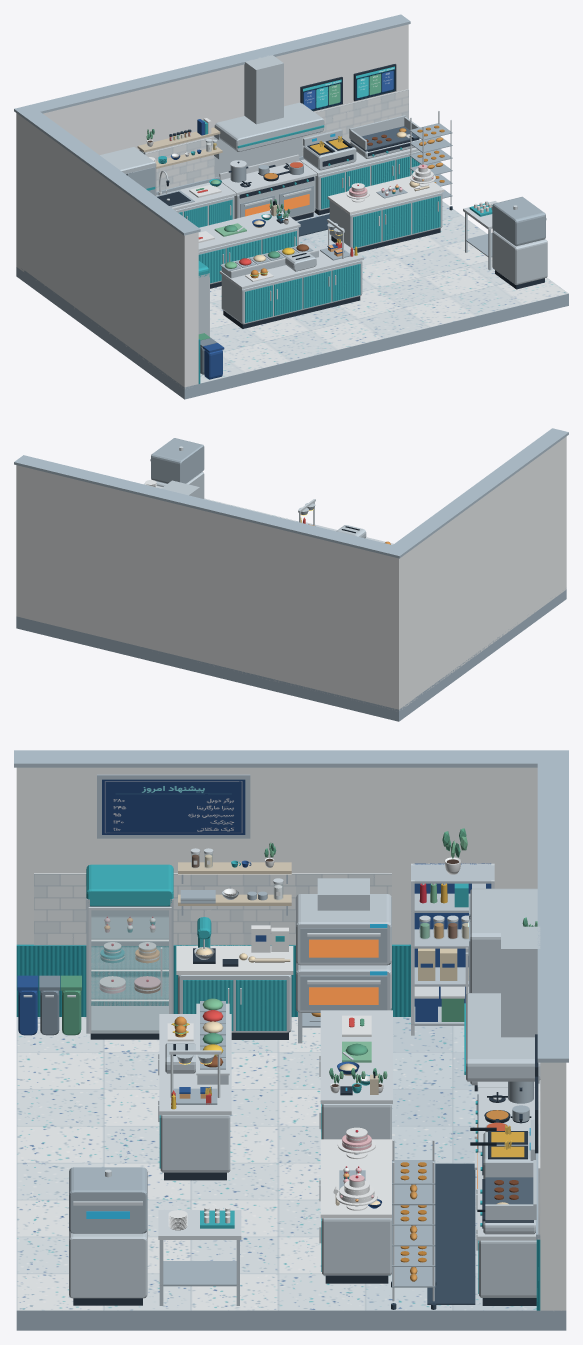
The model's file is cafe_kitchen_final (4).glb.
3 renders of one model, top to bottom at view 1: azimuth 30°, elevation 25°; view 2: azimuth 150°, elevation 25°; view 3: azimuth 270°, elevation 25°, orthographic. The views are drawn at different scales.
Parts seen in each view (by area): view 1: kitchen_shell_L1, kitchen_burgerStation_L4, kitchen_bakeryIsland_L3, kitchen_dishStation_L4, kitchen_hood_L2, kitchen_range_L1, kitchen_prepIsland_L1, kitchen_eastCounter_L1, kitchen_prepSink_L1, kitchen_kdsScreens_L4, kitchen_griddle_L2, kitchen_bakeRack_L3 (+5 smaller); view 2: kitchen_shell_L1, kitchen_dishStation_L4, kitchen_burgerStation_L4, kitchen_hood_L2; view 3: kitchen_shell_L1, kitchen_dishStation_L4, kitchen_cakeChiller_L4, kitchen_burgerStation_L4, kitchen_ovenStack_L3, kitchen_pantryShelf_L1, kitchen_mixerBench_L3, kitchen_specialsBoard_L5, kitchen_bakeryIsland_L3, kitchen_hood_L2, kitchen_prepIsland_L1, kitchen_floorMats_L1 (+9 smaller).
Boxes of the visible parts, bbox=[...] form: kitchen_shell_L1: bbox=[14, 14, 568, 399]; kitchen_burgerStation_L4: bbox=[219, 219, 363, 328]; kitchen_bakeryIsland_L3: bbox=[327, 176, 444, 252]; kitchen_dishStation_L4: bbox=[463, 196, 547, 289]; kitchen_hood_L2: bbox=[214, 55, 324, 151]; kitchen_range_L1: bbox=[219, 154, 317, 220]; kitchen_prepIsland_L1: bbox=[198, 201, 300, 288]; kitchen_eastCounter_L1: bbox=[300, 147, 421, 215]; kitchen_prepSink_L1: bbox=[156, 170, 236, 227]; kitchen_kdsScreens_L4: bbox=[300, 64, 396, 111]; kitchen_griddle_L2: bbox=[349, 115, 420, 158]; kitchen_bakeRack_L3: bbox=[409, 111, 452, 210]; kitchen_shell_L1: bbox=[14, 428, 568, 721]; kitchen_dishStation_L4: bbox=[144, 438, 204, 498]; kitchen_burgerStation_L4: bbox=[298, 499, 393, 544]; kitchen_hood_L2: bbox=[161, 480, 199, 497]; kitchen_shell_L1: bbox=[14, 750, 568, 1330]; kitchen_dishStation_L4: bbox=[69, 1167, 241, 1305]; kitchen_cakeChiller_L4: bbox=[86, 864, 173, 1039]; kitchen_burgerStation_L4: bbox=[158, 998, 231, 1180]; kitchen_ovenStack_L3: bbox=[296, 878, 391, 1043]; kitchen_pantryShelf_L1: bbox=[411, 828, 494, 1035]; kitchen_mixerBench_L3: bbox=[176, 917, 293, 1039]; kitchen_specialsBoard_L5: bbox=[97, 774, 250, 838]; kitchen_bakeryIsland_L3: bbox=[319, 1127, 392, 1283]; kitchen_hood_L2: bbox=[464, 926, 540, 1081]; kitchen_prepIsland_L1: bbox=[319, 1010, 392, 1139]; kitchen_floorMats_L1: bbox=[427, 1163, 475, 1304].
Size of the model in its own units: 8.36 by 3.45 by 6.36.
106 materials, 11 textured.
